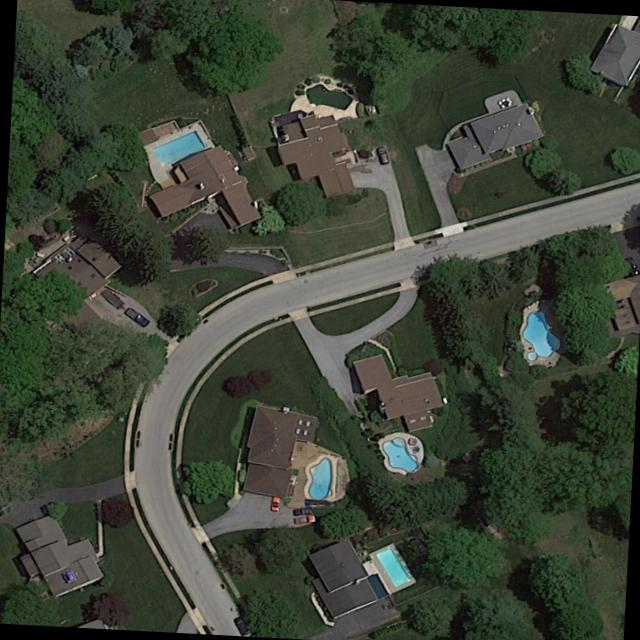small-vehicle: (122, 307, 151, 330), (99, 290, 124, 310), (374, 147, 389, 165), (294, 515, 316, 525), (293, 507, 312, 517), (269, 497, 280, 512), (86, 292, 97, 301)
